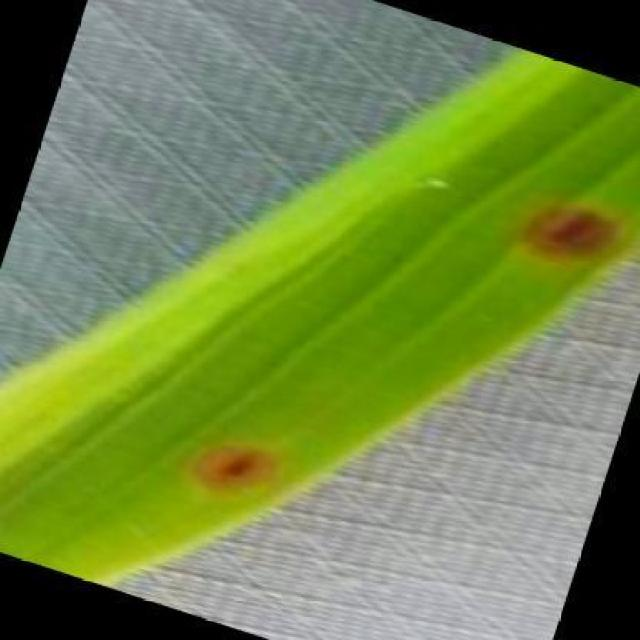Leaf_Blast: (519, 185, 638, 293), (192, 428, 279, 514)
